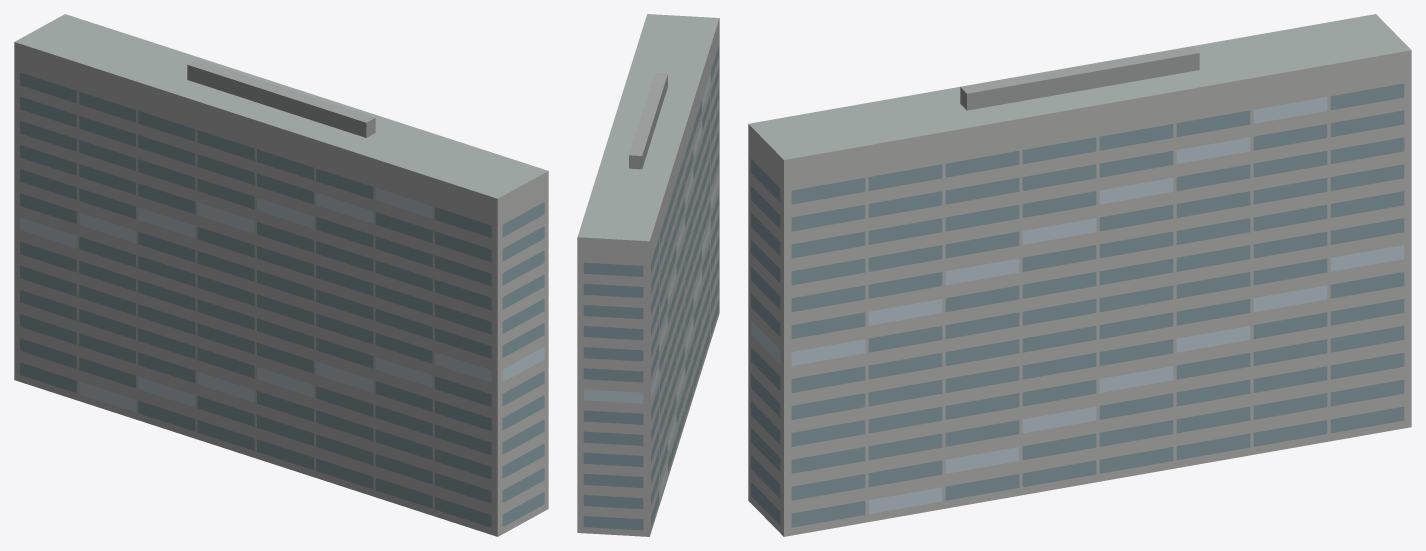
Rendered from fallback-olympic-athletes-village-237.glb.
The picture shows the model from 3 angles, left to right: view 1: azimuth 30°, elevation 25°; view 2: azimuth 150°, elevation 25°; view 3: azimuth 270°, elevation 25°; orthographic projection. The views are drawn at different scales.
Visible parts, largest first — view 1: fallback-olympic-athletes-village-237; view 2: fallback-olympic-athletes-village-237; view 3: fallback-olympic-athletes-village-237.
Part boxes in pixels (x1,y1,x2,y2): fallback-olympic-athletes-village-237: (14, 14, 548, 536); fallback-olympic-athletes-village-237: (577, 14, 719, 536); fallback-olympic-athletes-village-237: (748, 14, 1411, 536).
Bounding box in the file's own units: 35.49 × 44.62 × 68.1.
